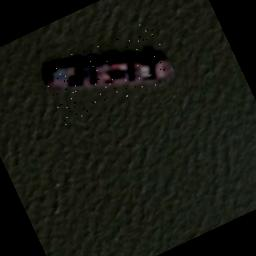boat: (39, 18, 177, 128)
